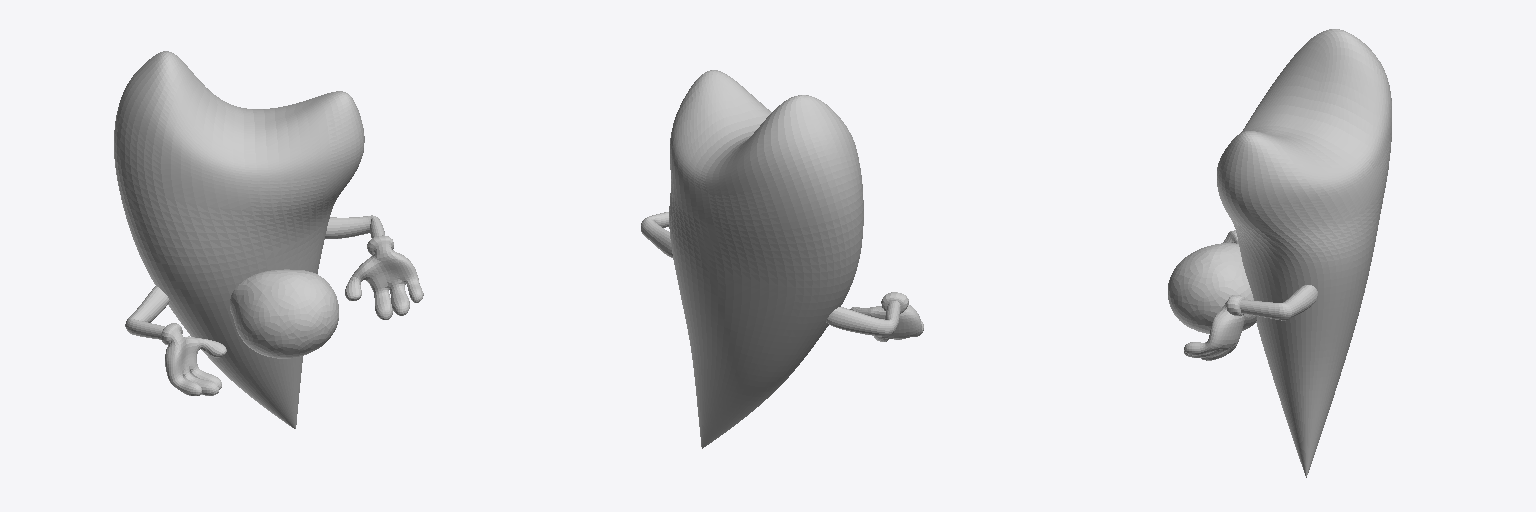
File: java-dukezombie4.obj
The picture shows the model from 3 angles: view 1: azimuth 30°, elevation 25°; view 2: azimuth 150°, elevation 25°; view 3: azimuth 270°, elevation 25°; orthographic projection.
Parts seen in each view (by area): view 1: javadude, javadude_hands, javadude_nase; view 2: javadude, javadude_hands; view 3: javadude, javadude_nase, javadude_hands.
Part boxes in pixels (left/top/right/bottom): javadude: left=114, top=51, right=364, bottom=428; javadude_hands: left=125, top=215, right=423, bottom=395; javadude_nase: left=230, top=269, right=338, bottom=358; javadude: left=669, top=70, right=863, bottom=448; javadude_hands: left=641, top=212, right=923, bottom=341; javadude: left=1217, top=29, right=1391, bottom=477; javadude_nase: left=1168, top=243, right=1256, bottom=333; javadude_hands: left=1184, top=230, right=1317, bottom=360.
Bounding box in the file's own units: 1.41 × 2.07 × 1.08.